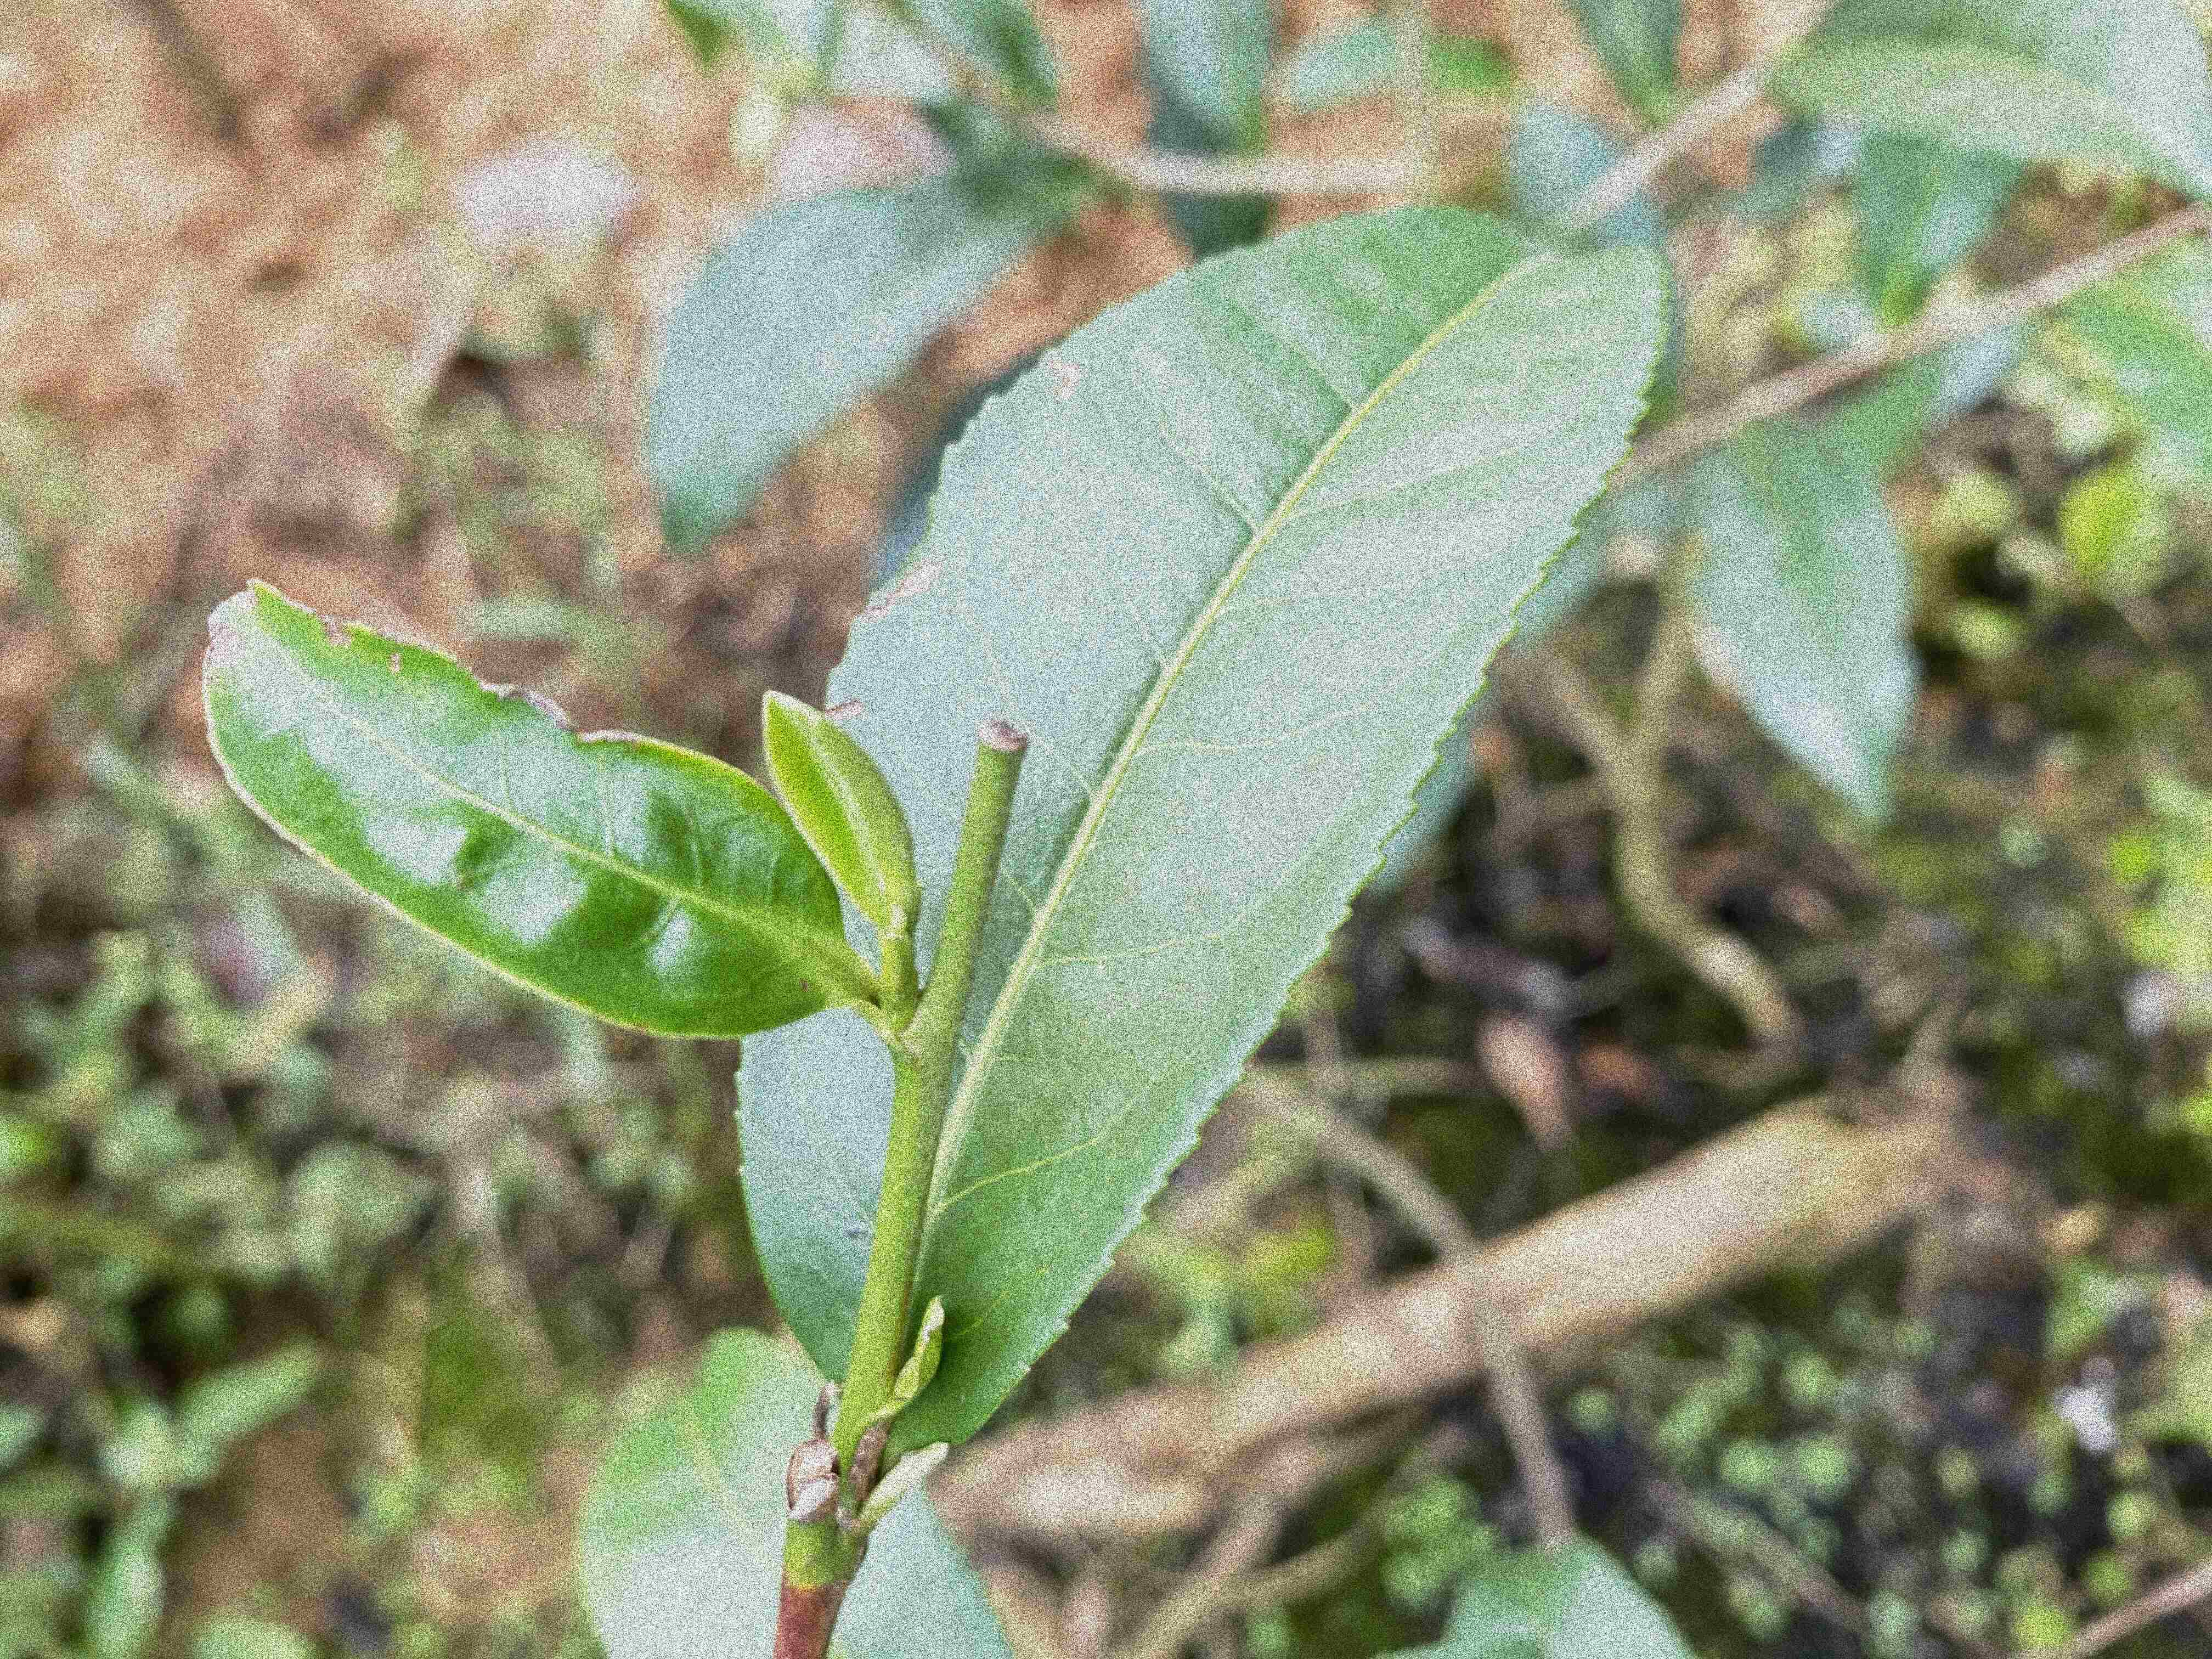tanju_low: (733, 200, 1670, 1452), (200, 577, 841, 1042)
